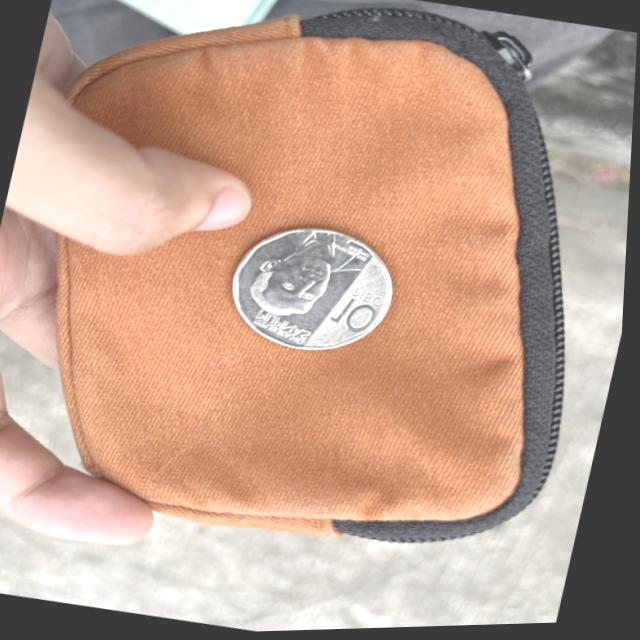10_New_Front: (327, 275, 398, 342)
